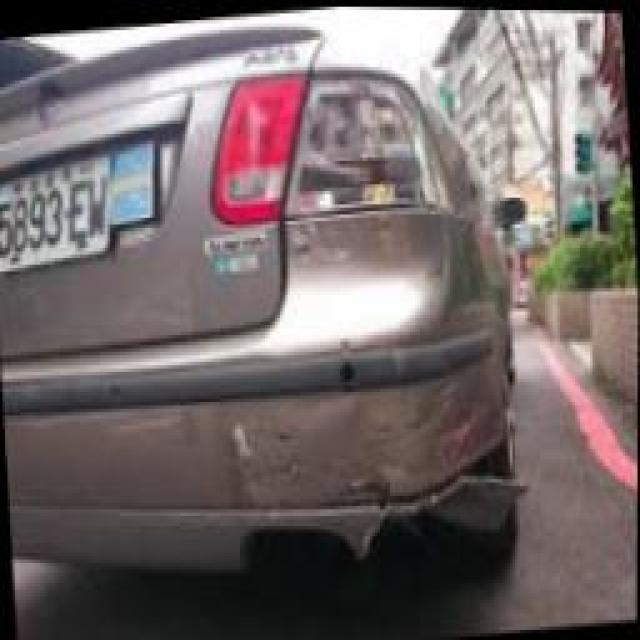Bumper: (160, 322, 554, 619)
Light: (272, 44, 466, 244)
